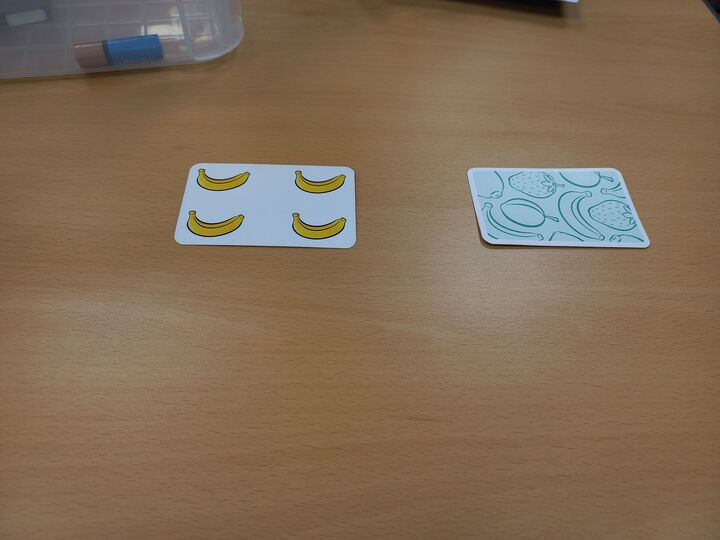banana4: (174, 162, 358, 251)
